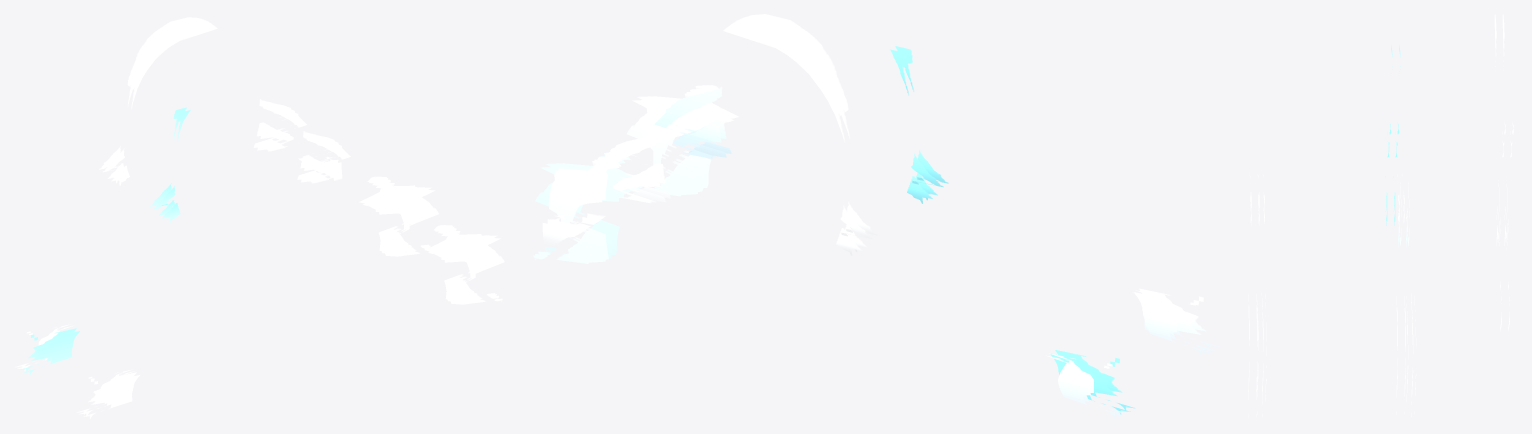
File: yuna_semantic_layer_v9_hair_art_directed_v1_silhouette.glb
3 renders of one model, left to right at view 1: azimuth 30°, elevation 25°; view 2: azimuth 150°, elevation 25°; view 3: azimuth 270°, elevation 25°, orthographic. The views are drawn at different scales.
Visible parts, largest first — view 1: back_hair_mass_01, side_hair_right_primary_01, bangs_primary_01, back_hair_mass_02, side_hair_left_primary_01, side_hair_right_primary_02, bangs_primary_02, bangs_primary_03, side_hair_right_primary_03; view 2: bangs_primary_01, secondary_strands_02, side_hair_right_primary_01, back_hair_mass_01, secondary_strands_01, flyaway_strands_02, bangs_primary_03, side_hair_right_primary_03, secondary_strands_04, secondary_strands_05, flyaway_strands_01, side_hair_left_primary_01 (+4 smaller); view 3: no part large enough to name.
Part boxes in pixels (x1,y1,x2,y2): back_hair_mass_01: [425, 228, 504, 304]; side_hair_right_primary_01: [359, 180, 438, 256]; bangs_primary_01: [127, 17, 217, 109]; back_hair_mass_02: [80, 372, 139, 418]; side_hair_left_primary_01: [20, 328, 79, 374]; side_hair_right_primary_02: [297, 146, 338, 183]; bangs_primary_02: [253, 114, 294, 151]; bangs_primary_03: [259, 99, 306, 150]; side_hair_right_primary_03: [303, 131, 350, 182]; bangs_primary_01: [723, 14, 849, 142]; secondary_strands_02: [535, 157, 608, 262]; side_hair_right_primary_01: [535, 152, 642, 258]; back_hair_mass_01: [627, 85, 738, 191]; secondary_strands_01: [638, 89, 710, 194]; flyaway_strands_02: [533, 159, 621, 263]; bangs_primary_03: [593, 131, 661, 203]; side_hair_right_primary_03: [654, 87, 722, 158]; secondary_strands_04: [1132, 290, 1214, 355]; secondary_strands_05: [1046, 353, 1128, 418]; flyaway_strands_01: [631, 91, 704, 196]; side_hair_left_primary_01: [1050, 350, 1135, 414].
Bounding box in the file's own units: 3.04 × 1.85 × 1.49.
Materials: 7 (6 with a texture image).
